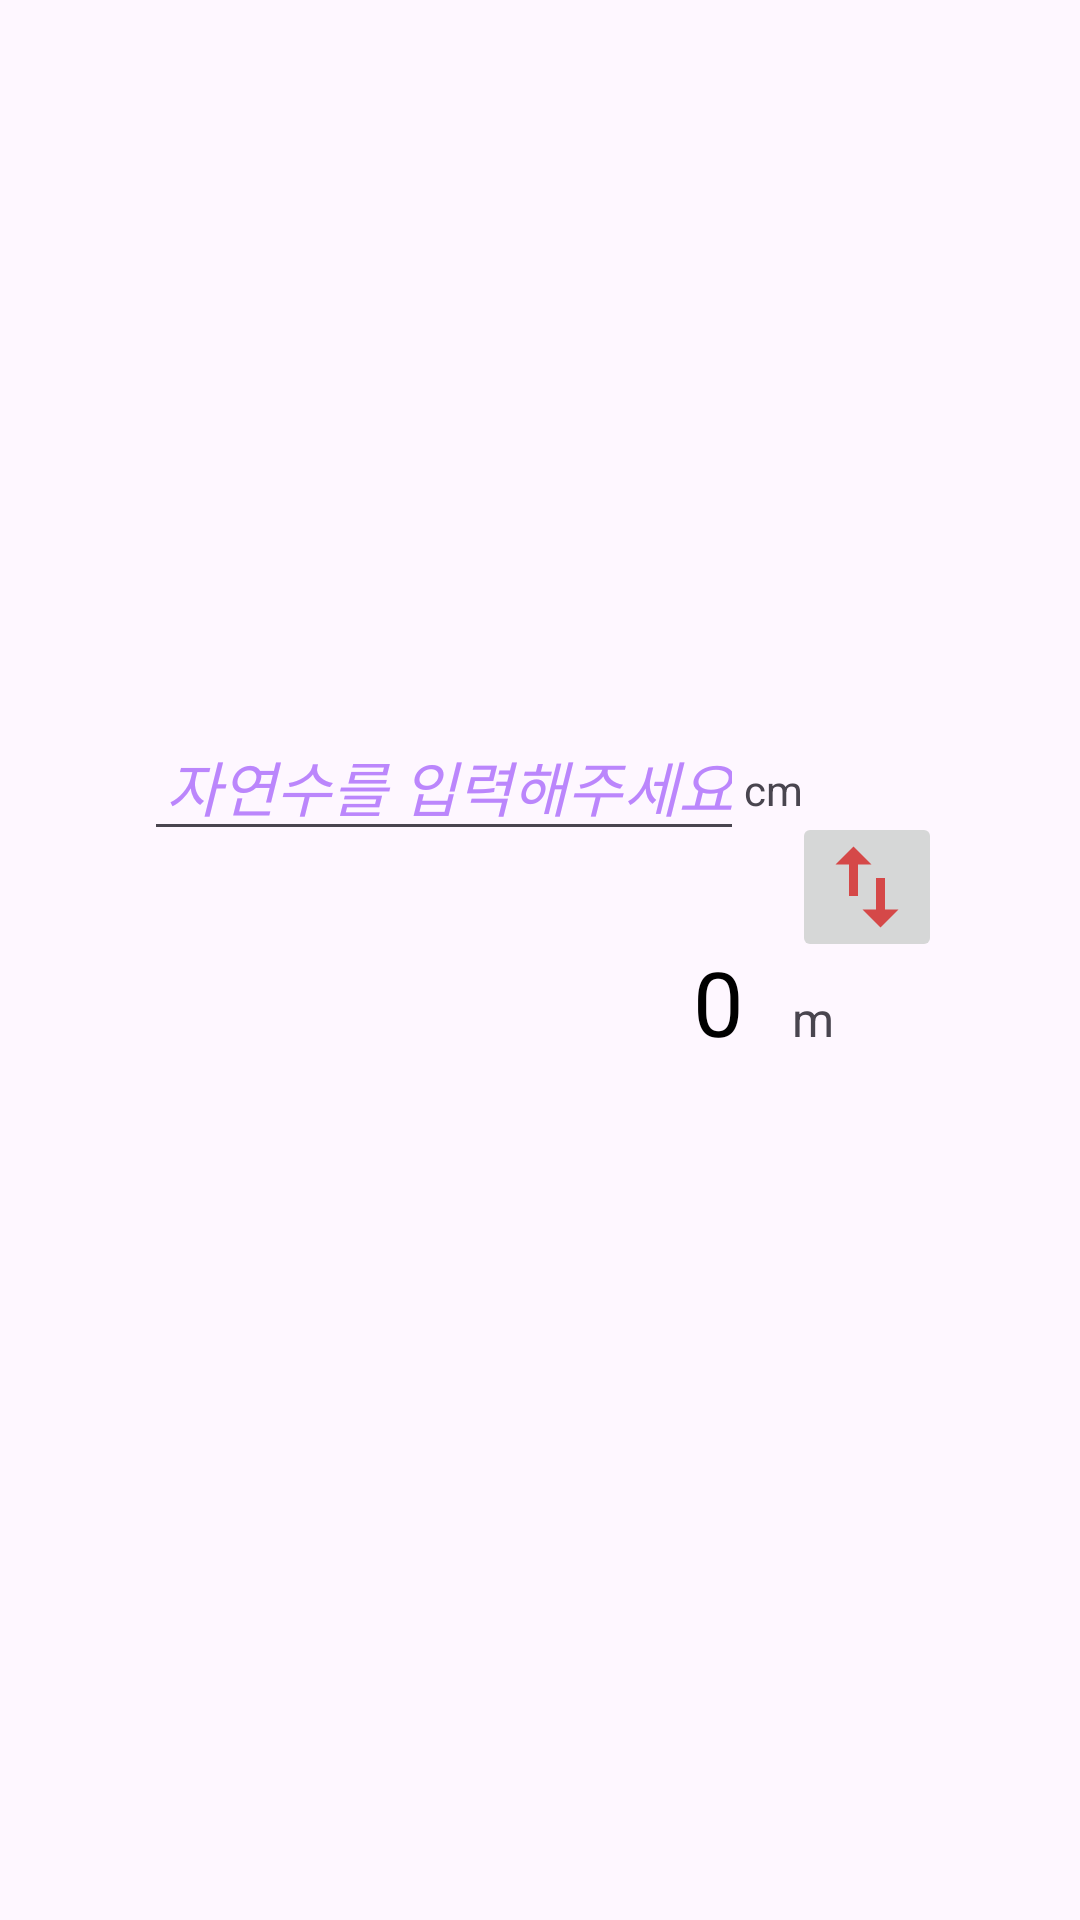

Icon bounding boxes for this 1080 × 1920 phone screenshot, format (x1, y1, x2, y2):
swap vert: (804, 830, 930, 944)
